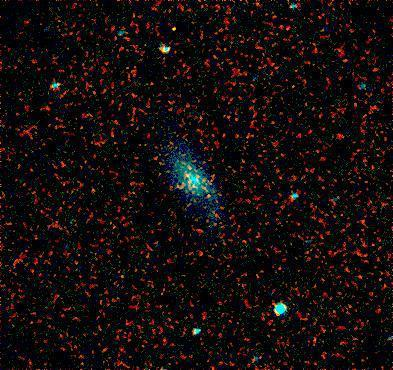star: (194, 179, 224, 209)
